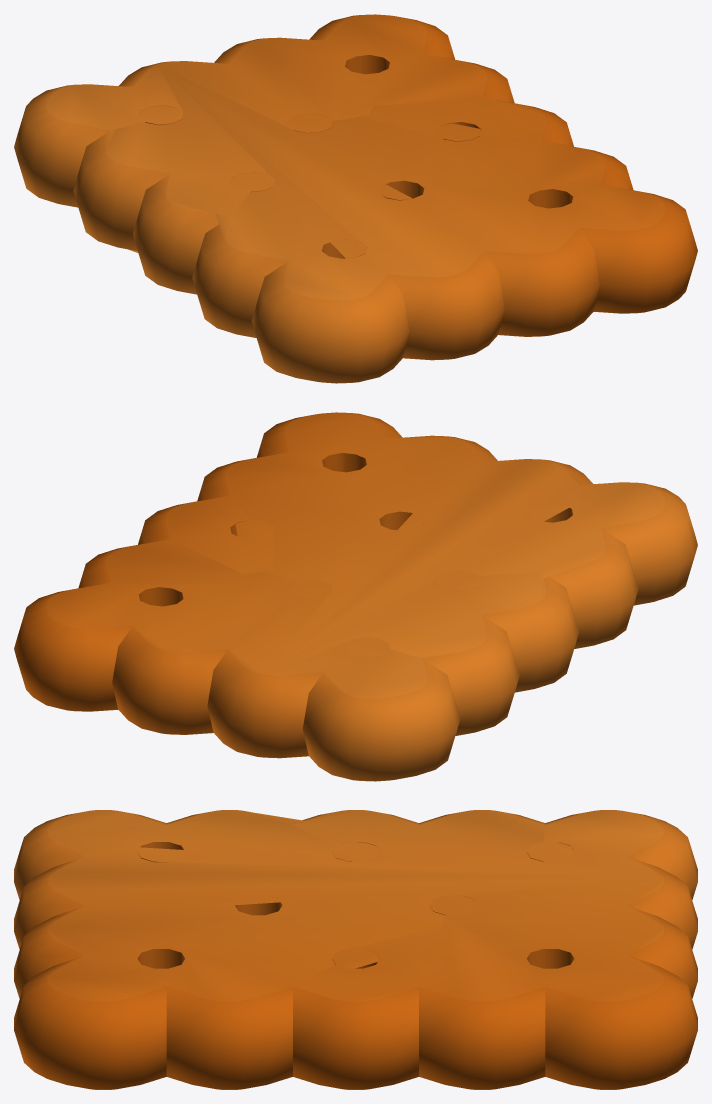
The model's file is Biscuit_01.fbx.
3 views of the same model, one above another, from view 1: azimuth 30°, elevation 25°; view 2: azimuth 150°, elevation 25°; view 3: azimuth 270°, elevation 25° (orthographic). The views are drawn at different scales.
Parts seen in each view (by area): view 1: Biscuit_01; view 2: Biscuit_01; view 3: Biscuit_01.
Part boxes in pixels (x1,y1,x2,y2): Biscuit_01: (14, 14, 697, 383); Biscuit_01: (14, 412, 697, 781); Biscuit_01: (14, 810, 697, 1089).
Size of the model in its own units: 268 by 50.68 by 351.
